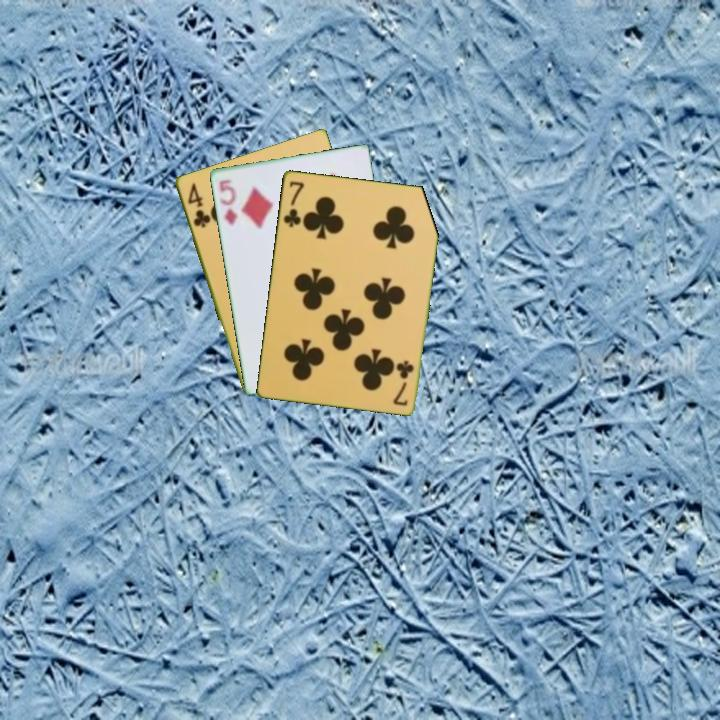4c: (184, 179, 213, 230)
5d: (215, 176, 240, 228)
7c: (280, 177, 307, 230), (391, 356, 416, 408)
